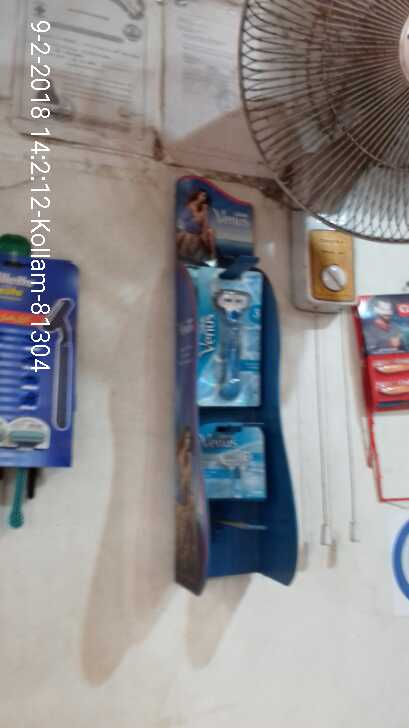venus: (196, 267, 263, 408), (196, 419, 264, 502)
